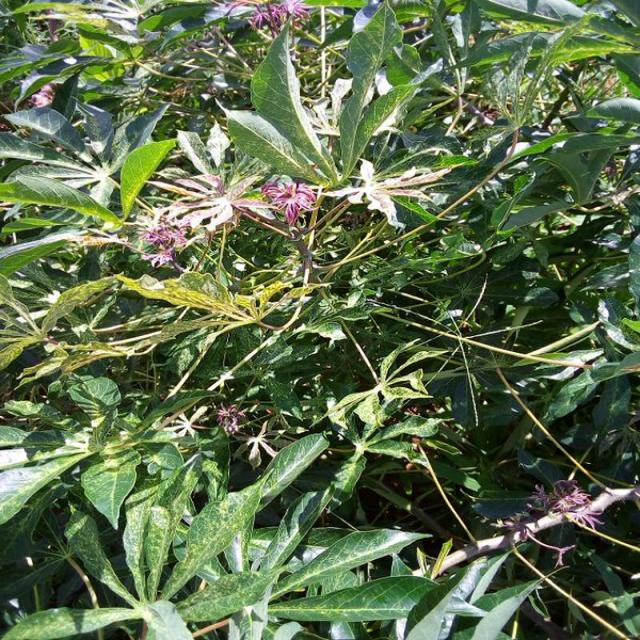cassava leaf: (0, 0, 638, 638), (248, 22, 337, 185), (118, 136, 177, 220)
